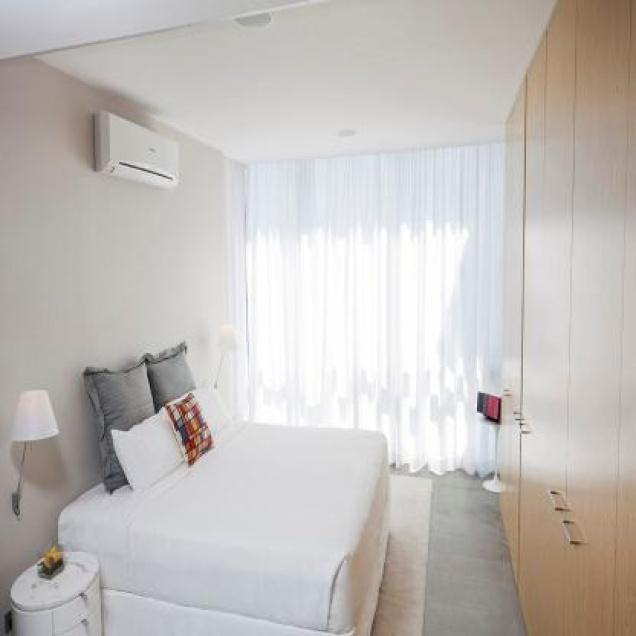AC: (92, 108, 180, 192)
